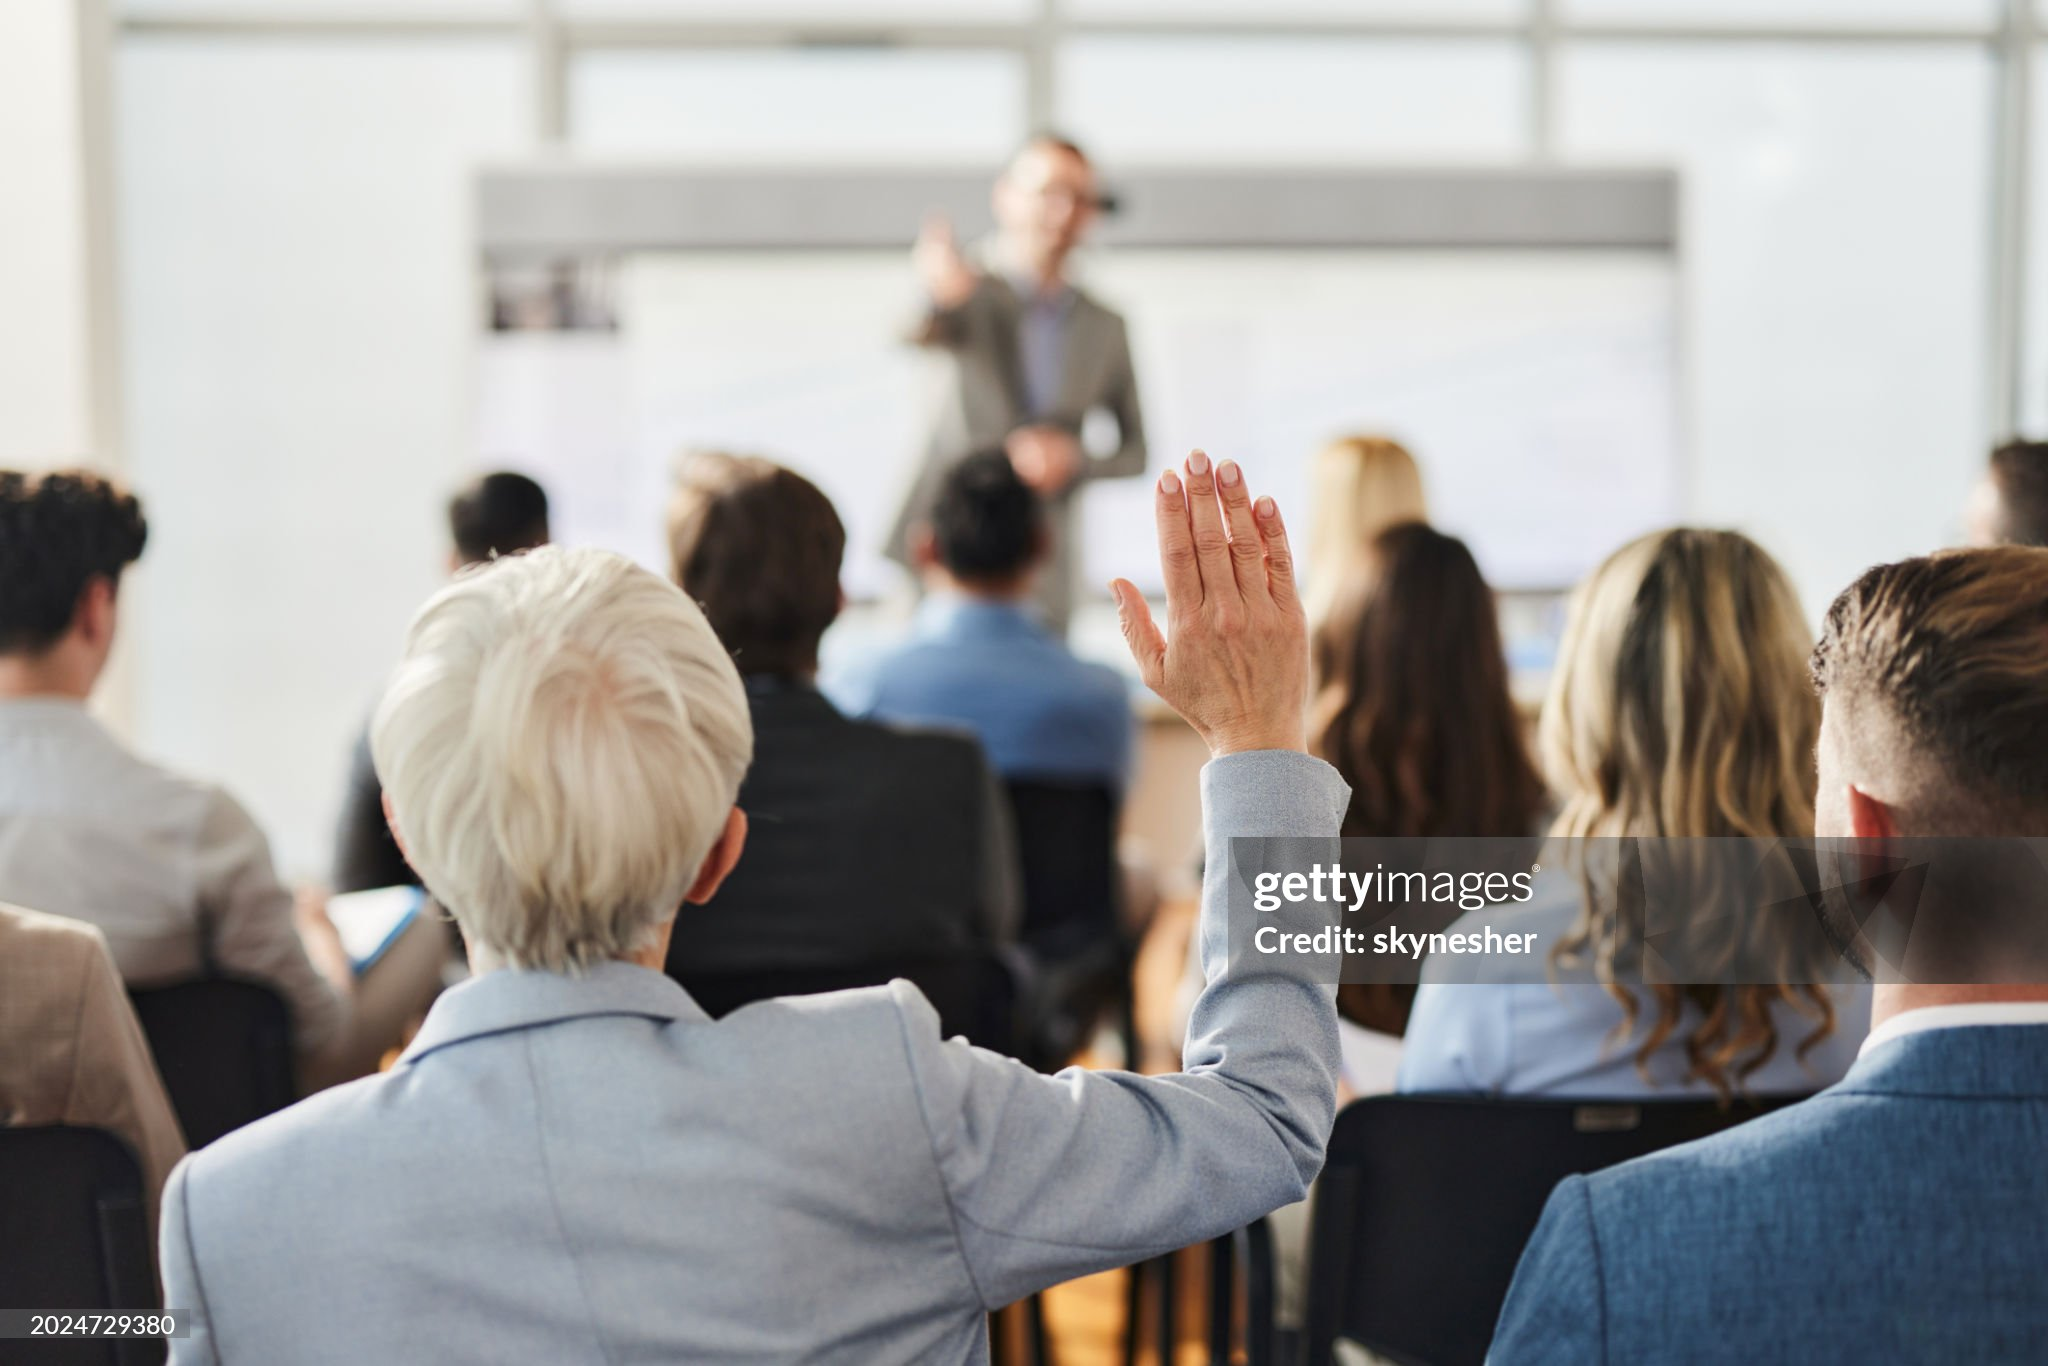entre-0-15-porcento: (20, 412, 2027, 1326)
